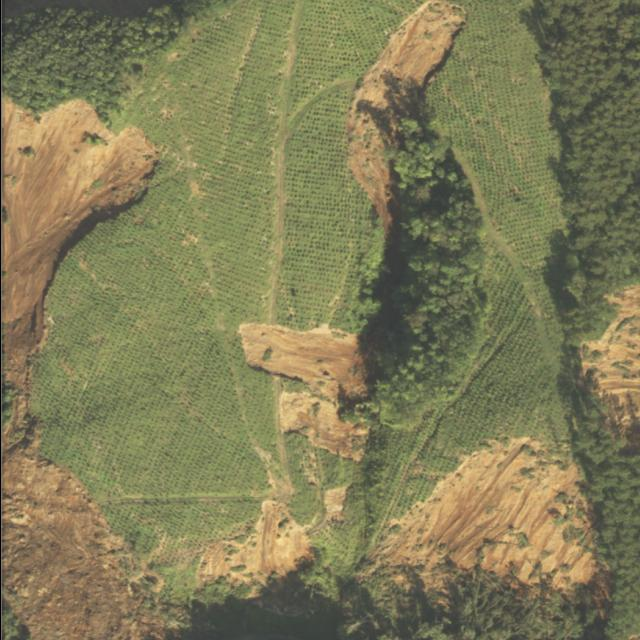landslide: (1, 100, 164, 640), (368, 437, 597, 591), (345, 0, 465, 232), (195, 500, 313, 588), (237, 322, 364, 400), (580, 284, 640, 426), (279, 392, 368, 461)
